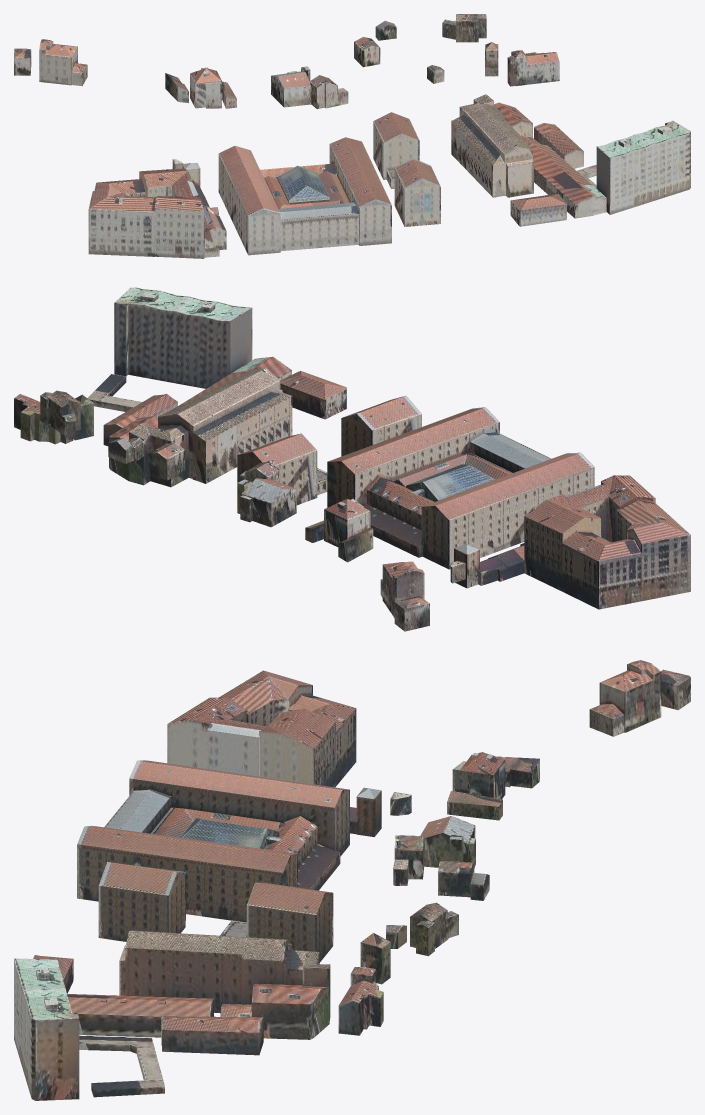
Rendered from LYON_1ER_00001.dae.
3 views of the same model, one above another, from view 1: azimuth 30°, elevation 25°; view 2: azimuth 150°, elevation 25°; view 3: azimuth 270°, elevation 25° (orthographic). The views are drawn at different scales.
Size of the model in its own units: 265 by 209 by 47.06.
1 material, 1 textured.
